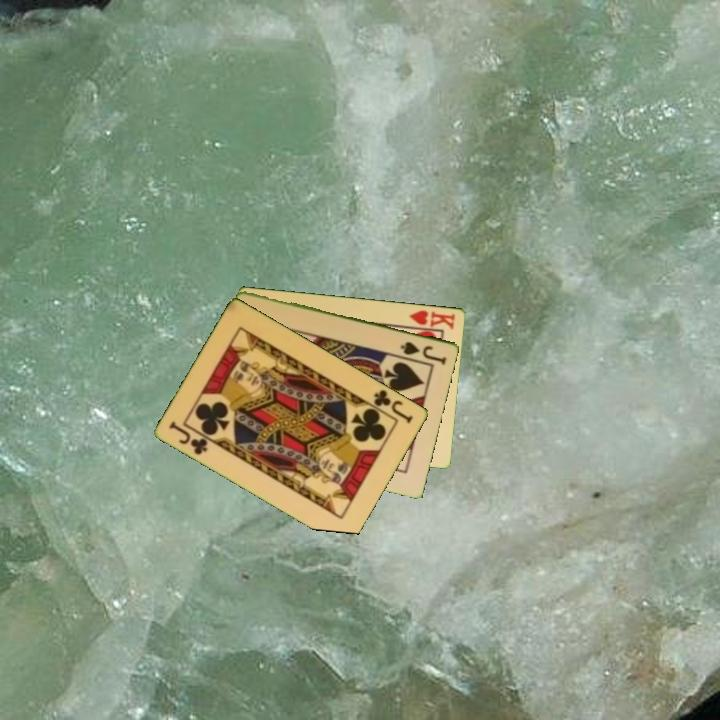Jc: (166, 417, 211, 458), (370, 386, 416, 426)
Js: (397, 338, 449, 366)
Kh: (402, 306, 458, 332)
